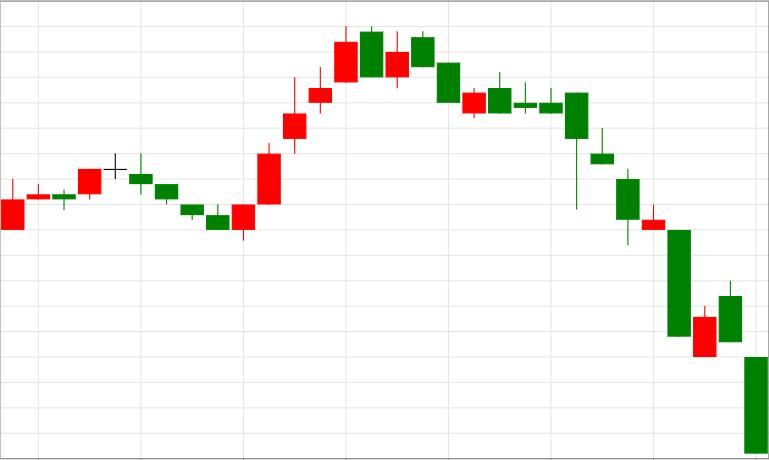hammer_rise: (411, 30, 588, 210)
